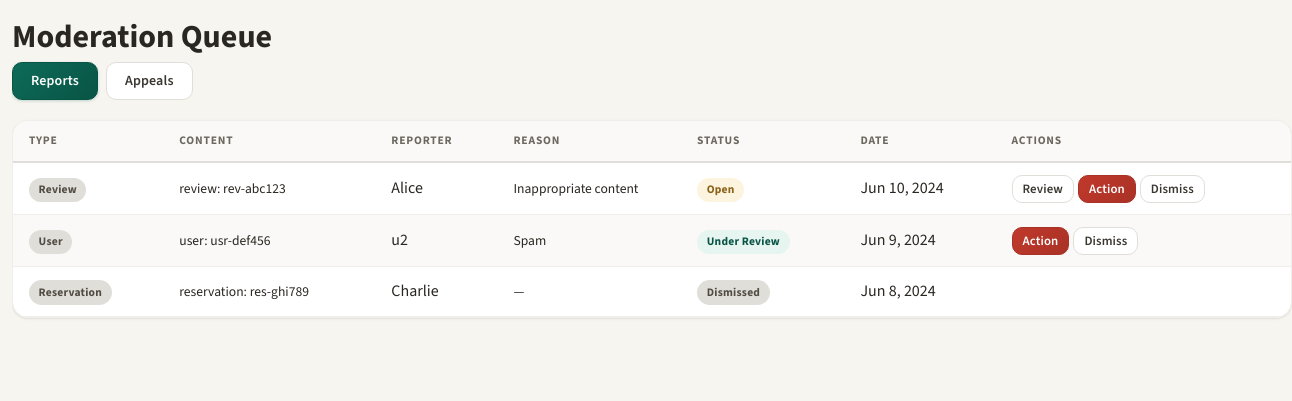
ModerationPage › Reports tab › shows success message after report action
Click the button "Review". click: [1043, 189]
box: [1012, 175, 1074, 203]
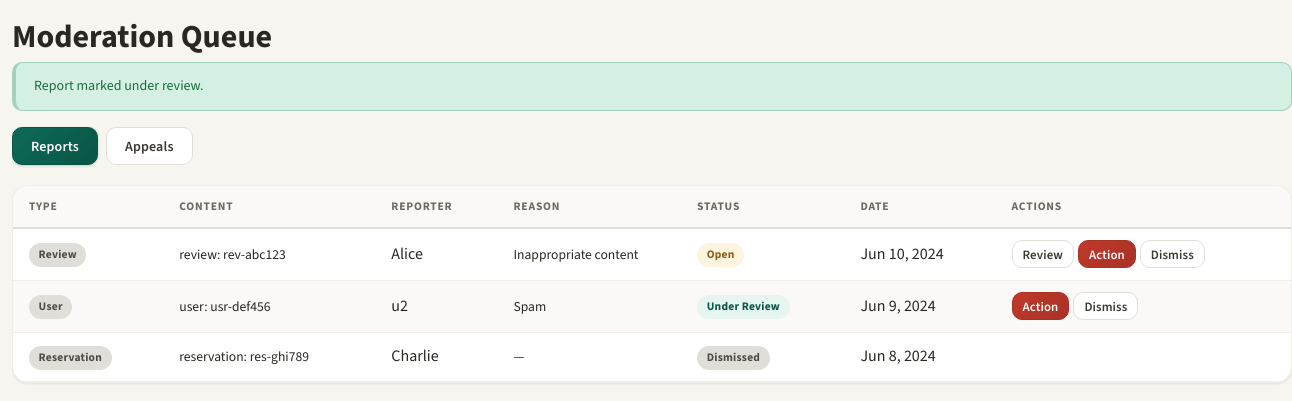
Check: the text "Report marked under review." is shown, box [12, 62, 1291, 111]
